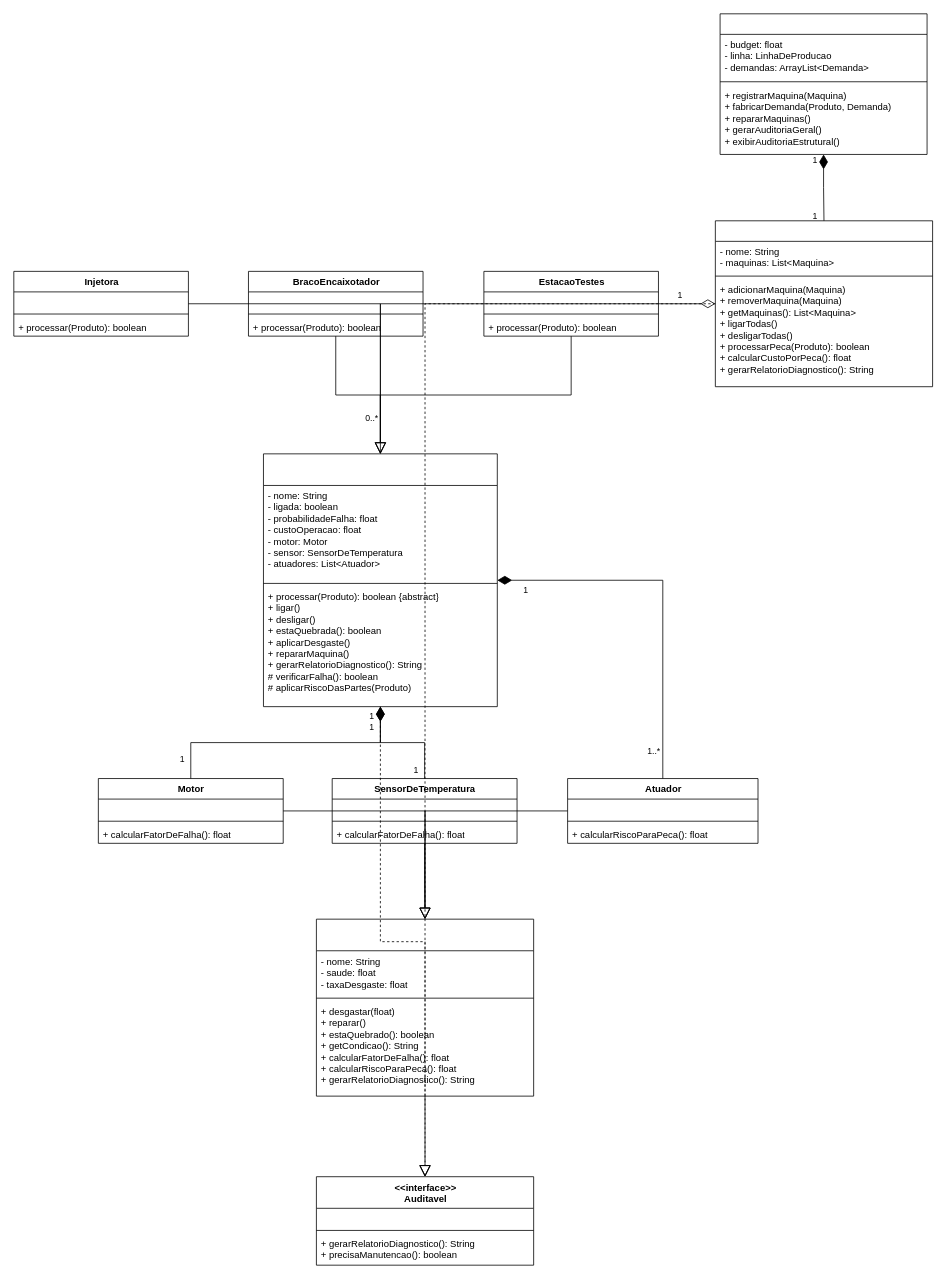
The diagram is 946 pixels wide and 1281 high, and some of its shapes have lost their labels. Each missing label, with the box of its shape:
<<abstract>> ComponenteMaquina: (316, 918, 534, 1096)
<<abstract>> Maquina: (263, 453, 497, 707)
GerenciadorProducao: (719, 13, 927, 154)
LinhaDeProducao: (715, 220, 933, 387)
